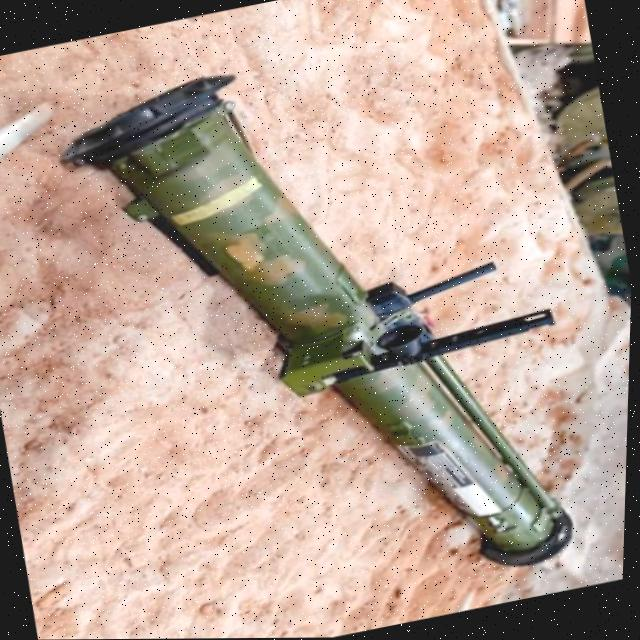rocket: (33, 14, 604, 640)
